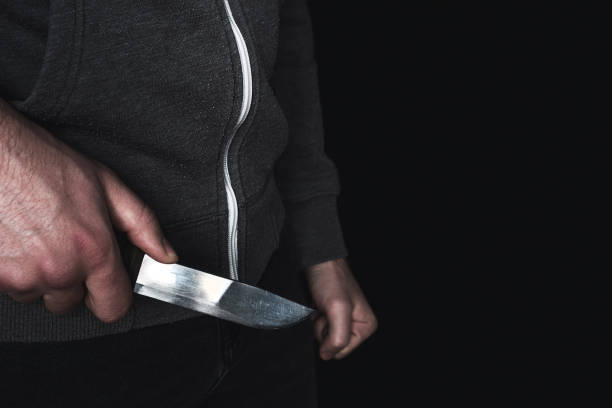knife: (131, 249, 317, 332)
